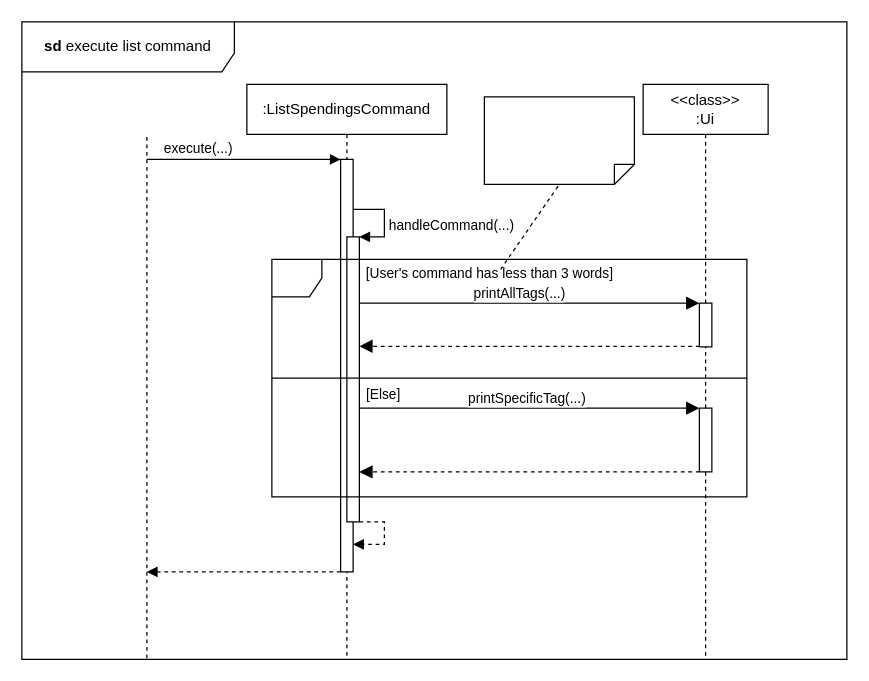
Image size: 869x681. Some labels were removed from this diagram. The shapes that lost their labels are listed below. From the top down, each one's box as (x1, y1, x2, y2) in pixels, then its label:
(483, 96, 634, 184): Implies command is "list tags"
(271, 258, 747, 497): alt
